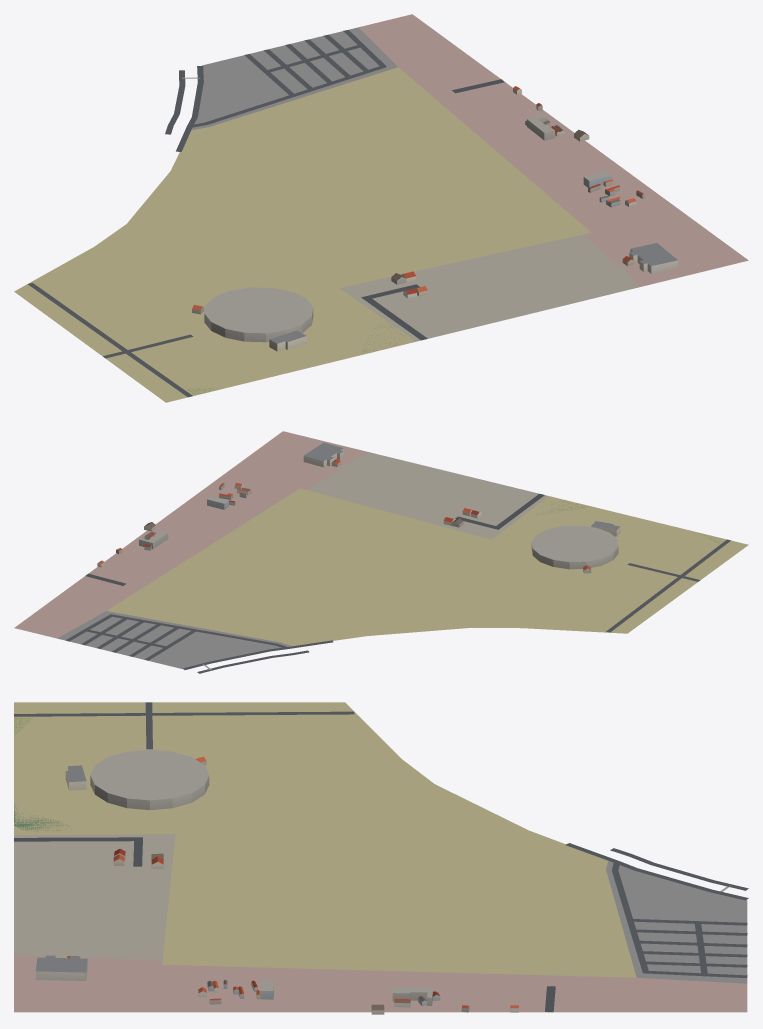
3 renders of one model, top to bottom at view 1: azimuth 30°, elevation 25°; view 2: azimuth 150°, elevation 25°; view 3: azimuth 270°, elevation 25°, orthographic. The views are drawn at different scales.
Visible parts, largest first — view 1: landuse, buildings_roofs, roads, buildings_walls; view 2: landuse, roads, buildings_roofs, buildings_walls; view 3: landuse, roads, buildings_roofs, buildings_walls.
Boxes of the visible parts, left/top/right/bottom form: landuse: left=14, top=14, right=748, bottom=402; buildings_roofs: left=192, top=86, right=677, bottom=343; roads: left=28, top=30, right=504, bottom=397; buildings_walls: left=192, top=88, right=678, bottom=351; landuse: left=14, top=431, right=748, bottom=668; roads: left=65, top=493, right=730, bottom=673; buildings_roofs: left=98, top=442, right=620, bottom=570; buildings_walls: left=97, top=448, right=620, bottom=573; landuse: left=14, top=702, right=747, bottom=1012; roads: left=14, top=702, right=748, bottom=1012; buildings_roofs: left=35, top=749, right=518, bottom=1010; buildings_walls: left=35, top=761, right=518, bottom=1014.
Size of the model in its own units: 504 by 7.4 by 501.
